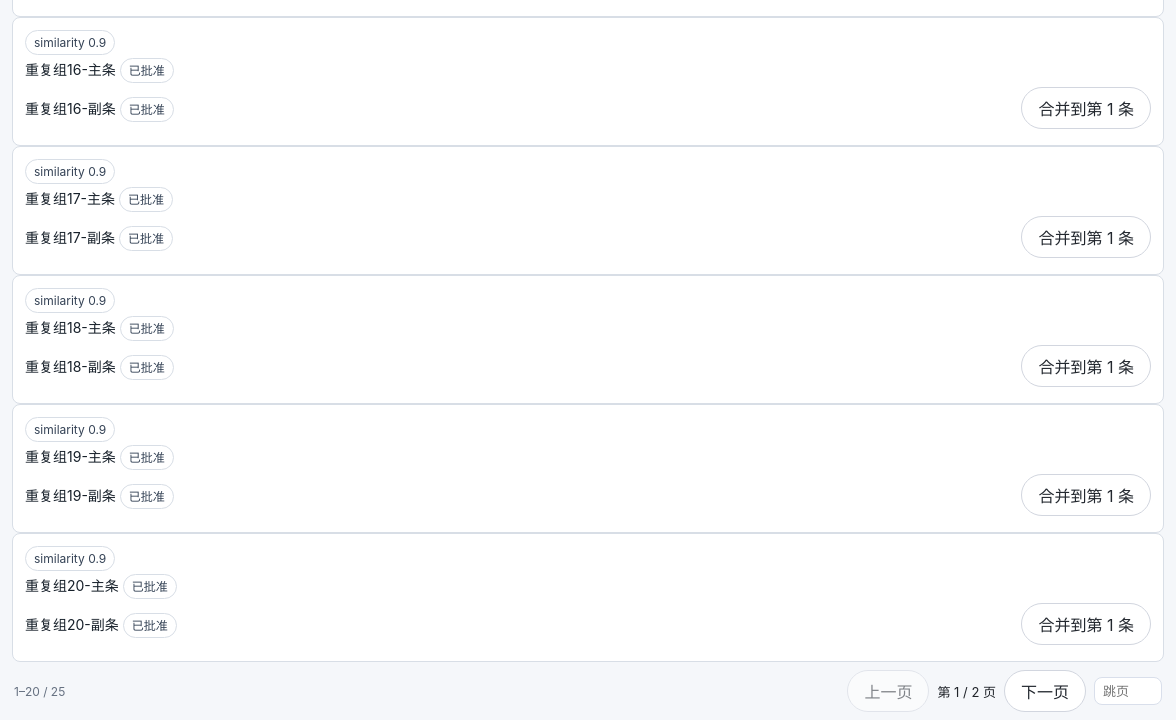
Test: 重复组超过一页时分页展示，翻页后显示下一批重复组
(page scrolled)
Check: the text "1–20 / 25" is shown, box left=14, top=684, right=65, bottom=698
Click the button "下一页": (1045, 691) left=1004, top=670, right=1086, bottom=712
(page scrolled)
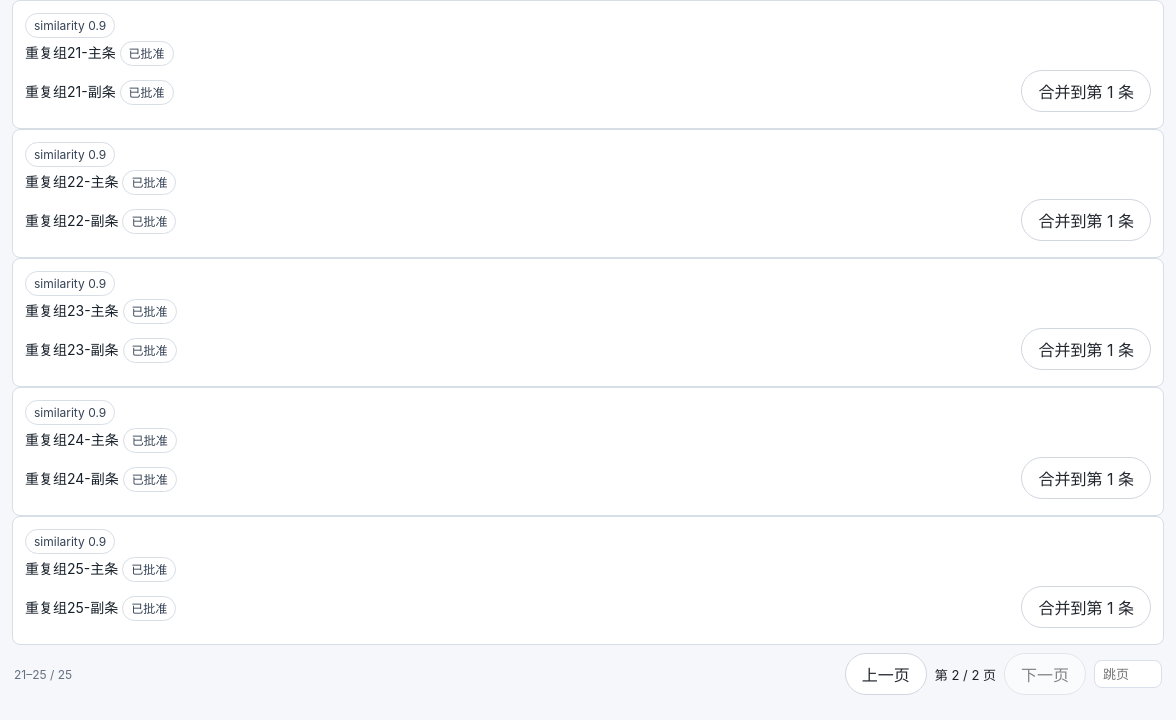
Check: the element showing "重复组21-主条 已批准" is shown, box left=25, top=42, right=174, bottom=62
Check: the button "下一页" is disabled, box left=1004, top=653, right=1086, bottom=695
